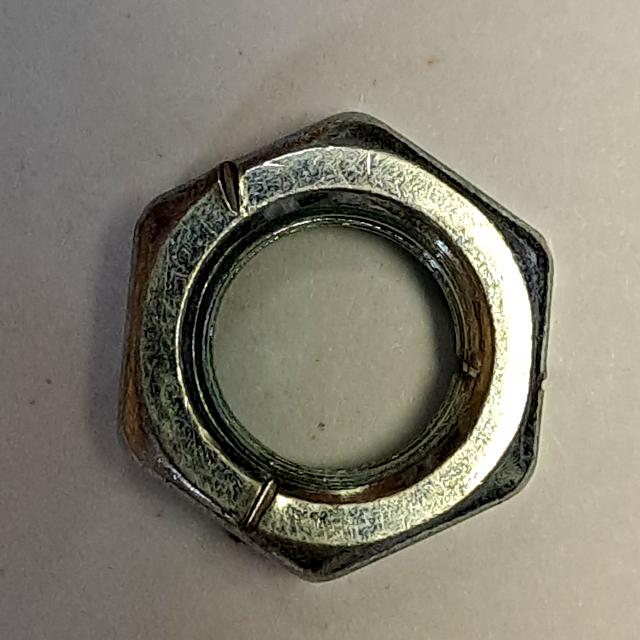Scratches: (104, 90, 578, 594)
